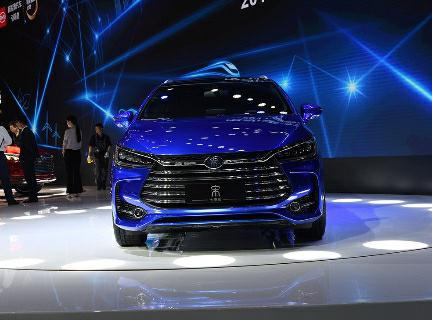比亚迪-宋MAX: (104, 69, 336, 252)
